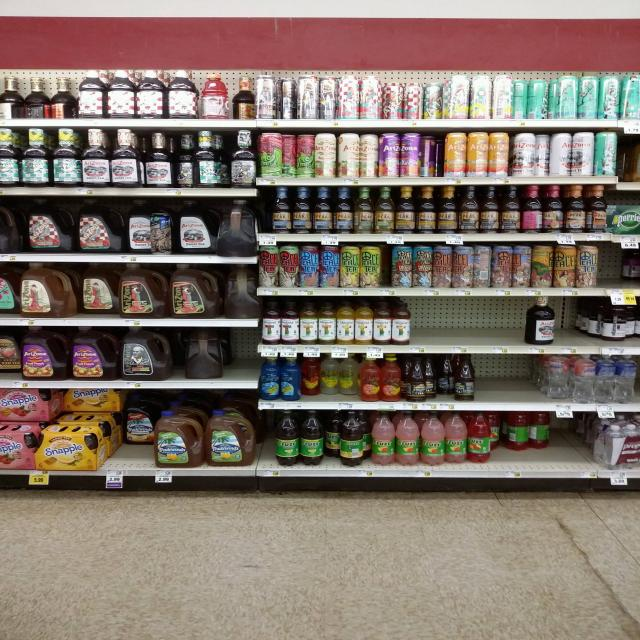void: (414, 300, 520, 346), (482, 358, 536, 401)
